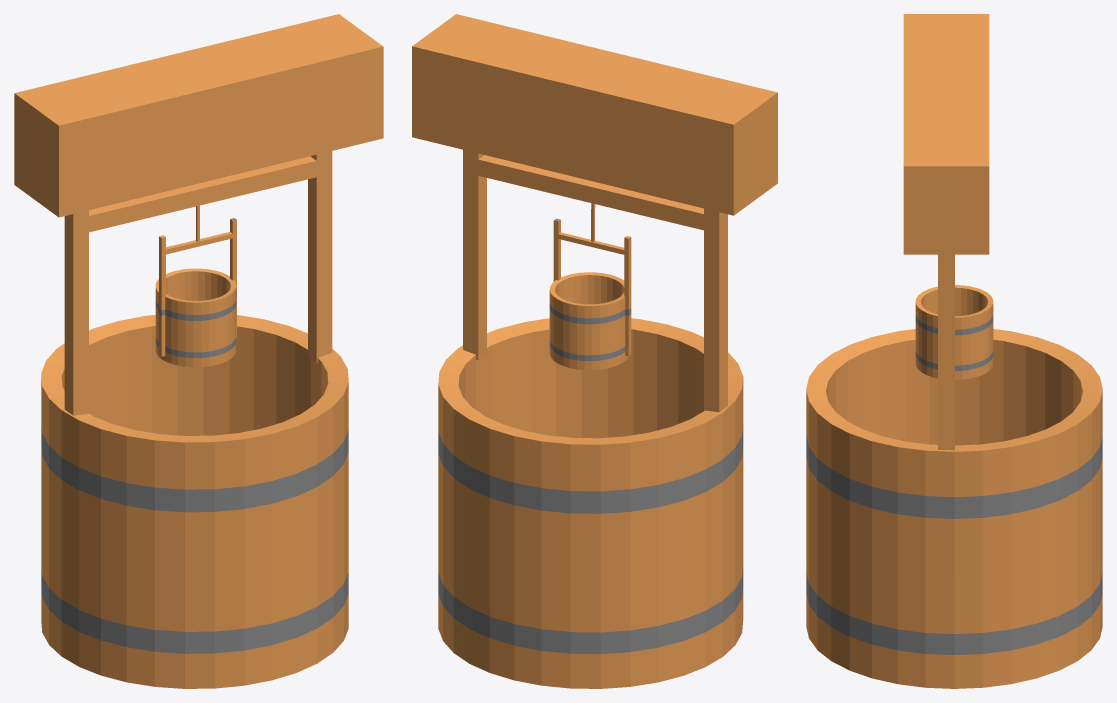
File: pocoaguinha.fbx
The picture shows the model from 3 angles, left to right: view 1: azimuth 30°, elevation 25°; view 2: azimuth 150°, elevation 25°; view 3: azimuth 270°, elevation 25°; orthographic projection. The views are drawn at different scales.
Parts seen in each view (by area): view 1: Cylinder.002; view 2: Cylinder.002; view 3: Cylinder.002.
Boxes of the visible parts, <box> form: Cylinder.002: <box>14,14,383,688</box>; Cylinder.002: <box>412,14,777,688</box>; Cylinder.002: <box>806,14,1102,688</box>.
Bounding box in the file's own units: 281 × 460 × 231.
